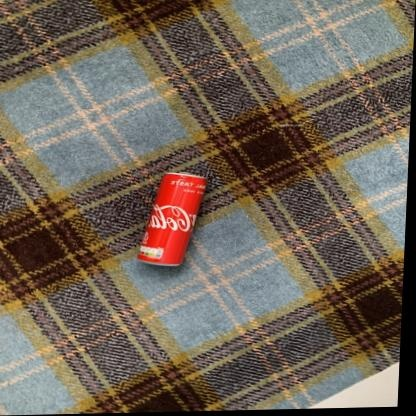trash: (138, 173, 205, 265)
